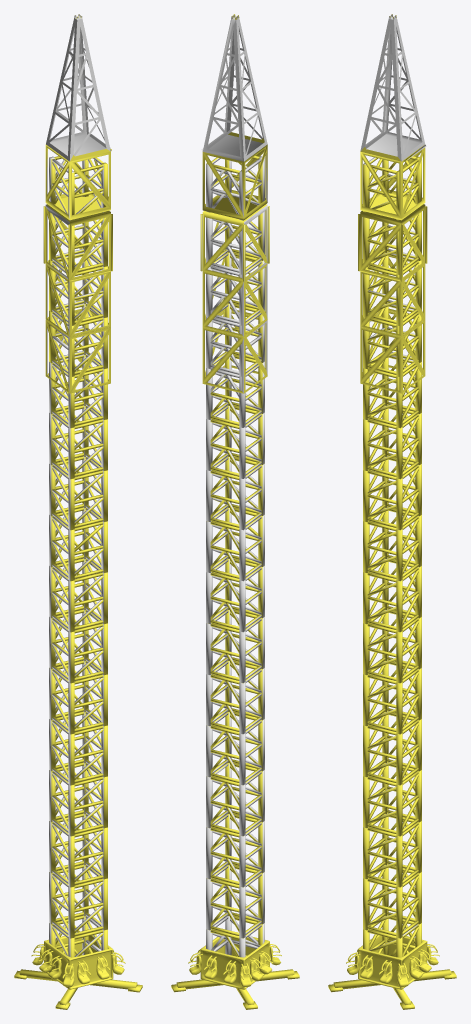
The model's file is DropTower.fbx.
3 views of the same model, side by side, from view 1: azimuth 30°, elevation 25°; view 2: azimuth 150°, elevation 25°; view 3: azimuth 330°, elevation 25° (orthographic).
Parts seen in each view (by area): view 1: crane, Cube.002; view 2: crane, Cube.002; view 3: crane, Cube.002.
Part boxes in pixels (<box>): crane: <box>14,14,142,1009</box>; Cube.002: <box>31,935,125,989</box>; crane: <box>171,14,299,1009</box>; Cube.002: <box>188,935,281,989</box>; crane: <box>328,14,456,1009</box>; Cube.002: <box>346,935,439,989</box>.
Bounding box in the file's own units: 193 × 2047 × 193.
